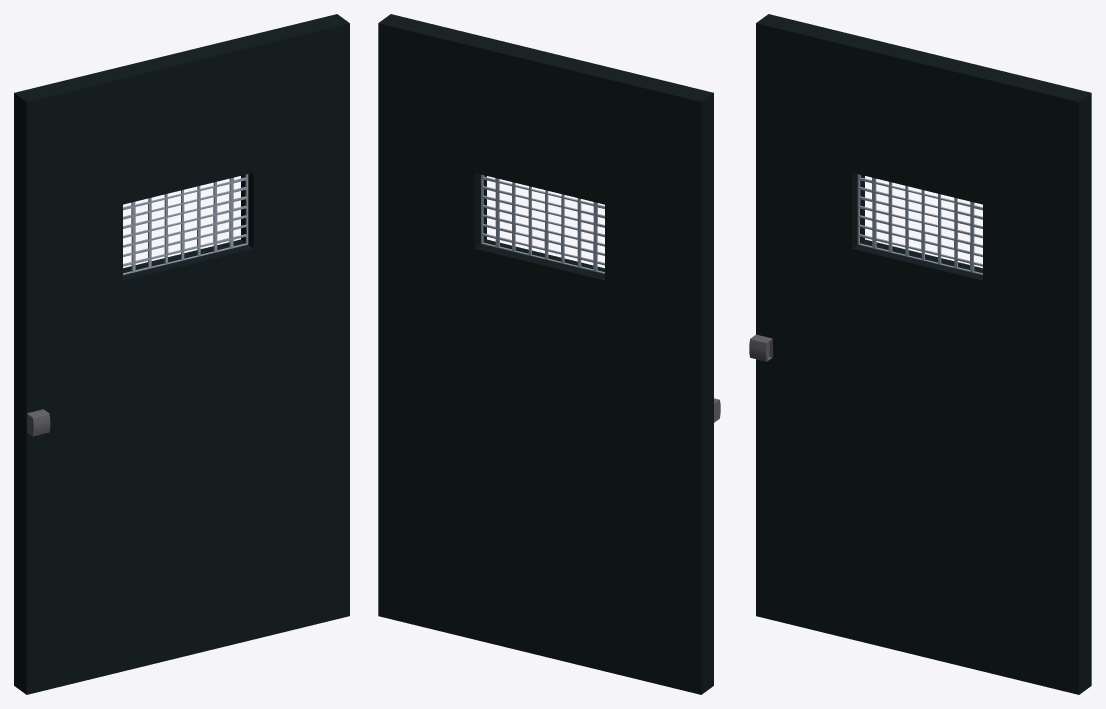
Rendered from Oda_Kaps.fbx.
3 views of the same model, side by side, from view 1: azimuth 30°, elevation 25°; view 2: azimuth 150°, elevation 25°; view 3: azimuth 330°, elevation 25° (orthographic).
Visible parts, largest first — view 1: Oda _Kapısı; view 2: Oda _Kapısı; view 3: Oda _Kapısı.
Boxes of the visible parts, <box> form: Oda _Kapısı: <box>14,14,349,694</box>; Oda _Kapısı: <box>378,14,720,694</box>; Oda _Kapısı: <box>749,14,1091,694</box>.
Bounding box in the file's own units: 1061 × 1859 × 111.
